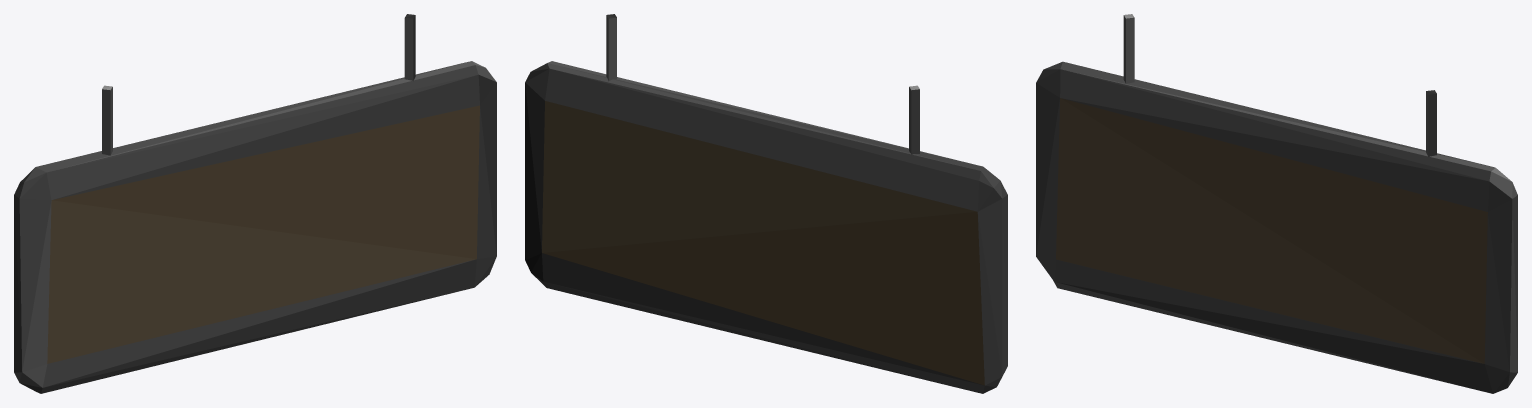
The model's file is Sign-HangingJ.fbx.
3 views of the same model, side by side, from view 1: azimuth 30°, elevation 25°; view 2: azimuth 150°, elevation 25°; view 3: azimuth 330°, elevation 25° (orthographic).
Parts seen in each view (by area): view 1: Sign-HangingJ; view 2: Sign-HangingJ; view 3: Sign-HangingJ.
Part boxes in pixels (x1,y1,x2,y2): Sign-HangingJ: (14, 14, 496, 393); Sign-HangingJ: (525, 14, 1007, 393); Sign-HangingJ: (1036, 14, 1517, 393).
Size of the model in its own units: 131 by 75.39 by 6.33.
